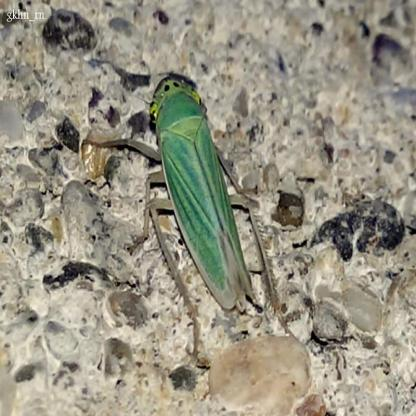Green-Leafhopper: (106, 73, 279, 318)
